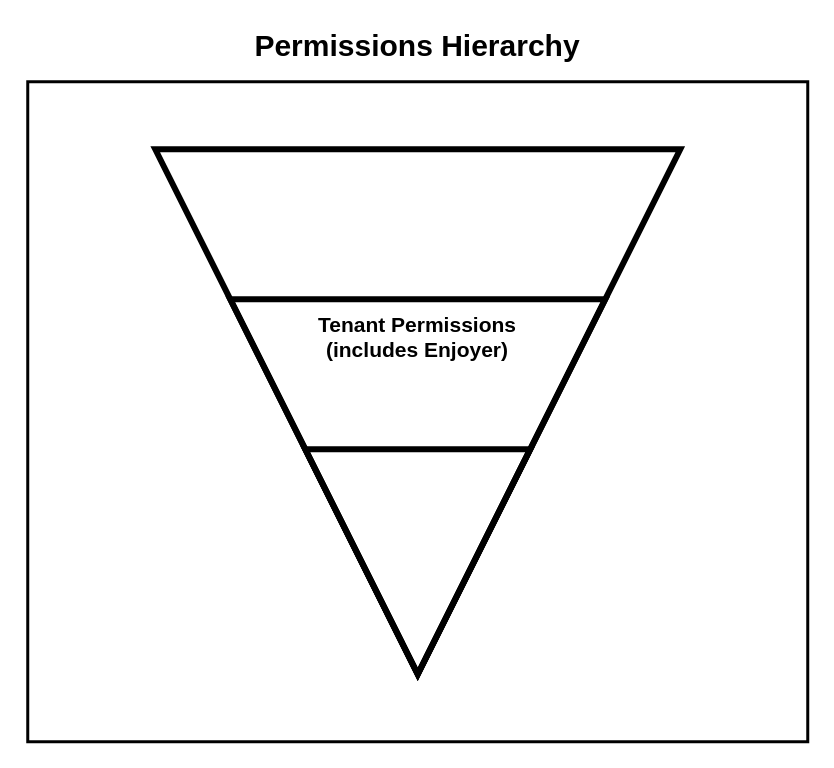
Image size: 834x768. Some labels were removed from this diagram. Each missing label, with the box of its shape:
Client Permissions (includes Tenant & Enjoyer): (152, 146, 682, 676)
Enjoyer Permissions: (302, 446, 532, 676)
